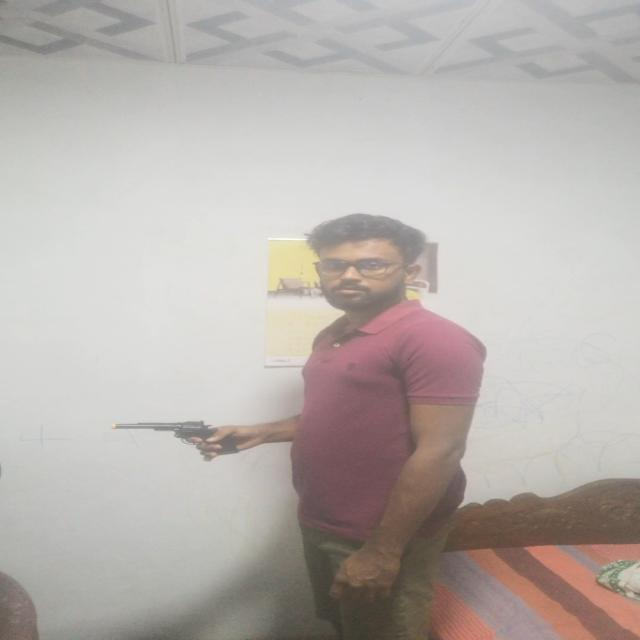Gun_Holder: (122, 411, 262, 462)
Person: (193, 212, 493, 640)
